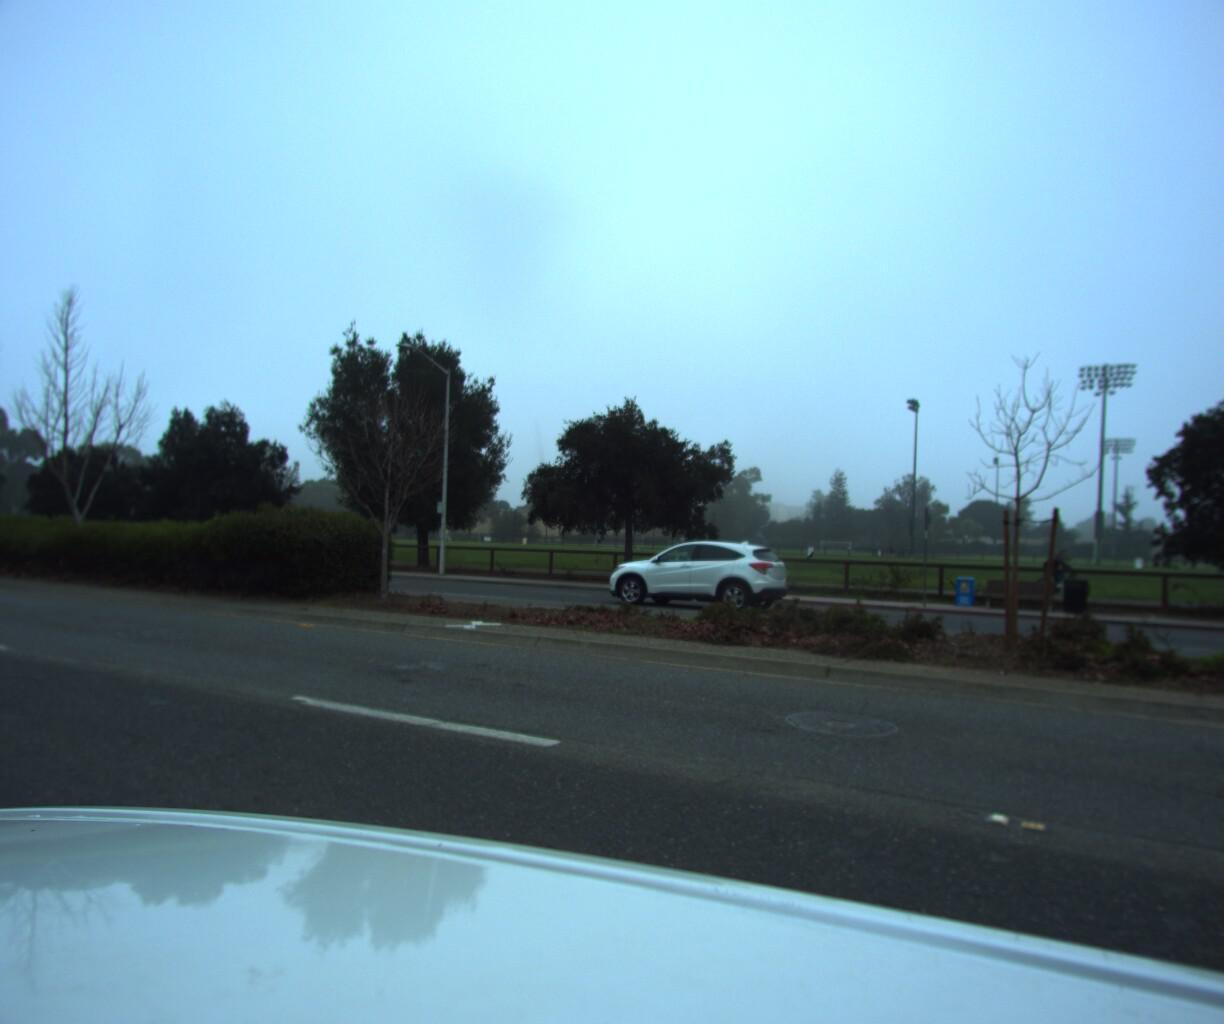bicycle: (1021, 541, 1106, 596)
car: (592, 532, 799, 616)
